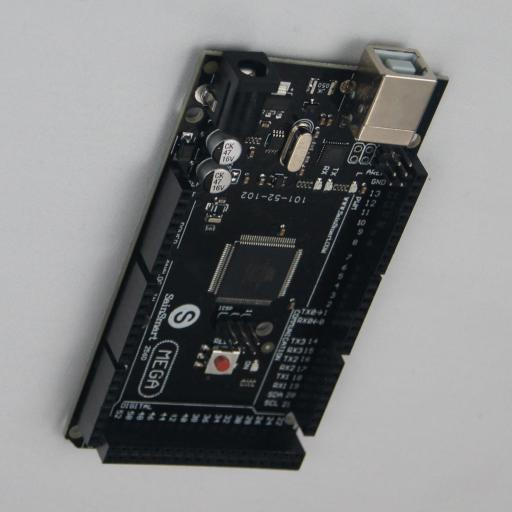Arduino Mega 2560 -Black-: (64, 44, 448, 470)
